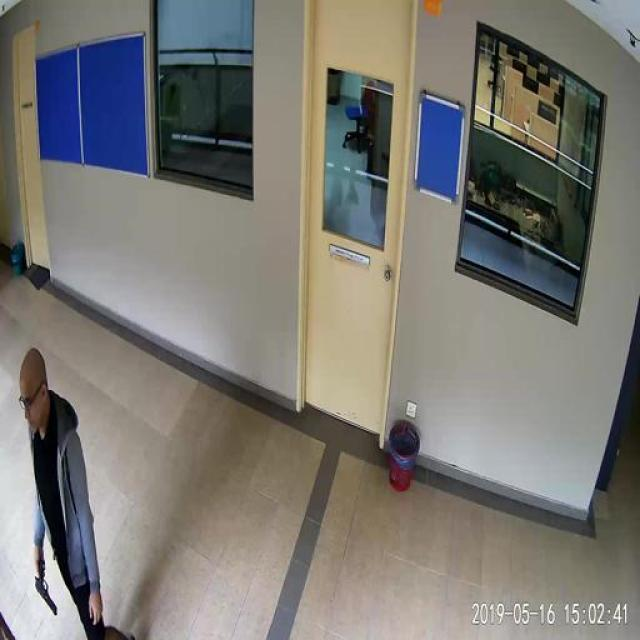Gun: (26, 553, 70, 626)
